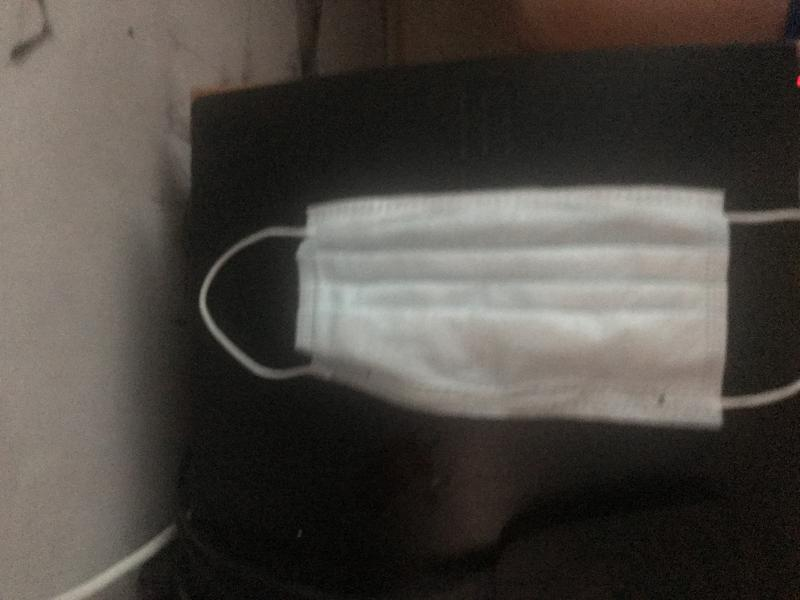medical_mask: (199, 191, 800, 419)
